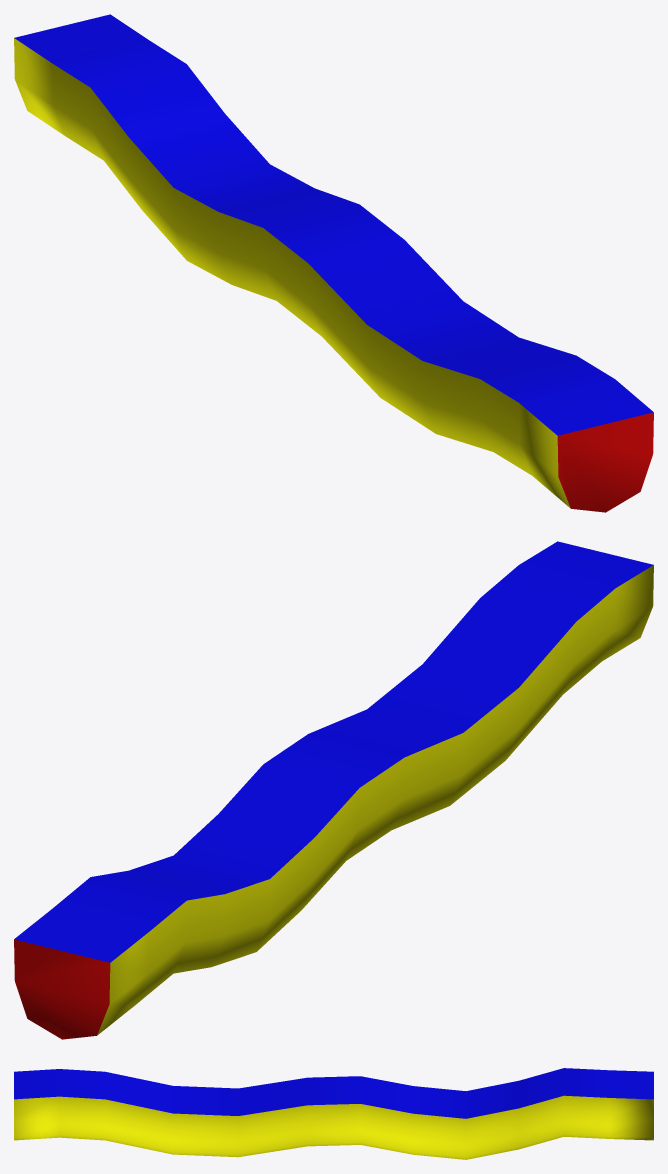
3 renders of one model, top to bottom at view 1: azimuth 30°, elevation 25°; view 2: azimuth 150°, elevation 25°; view 3: azimuth 270°, elevation 25°, orthographic. The views are drawn at different scales.
Parts seen in each view (by area): view 1: polySurface137; view 2: polySurface137; view 3: polySurface137.
Part boxes in pixels (x1,y1,x2,y2): polySurface137: [14, 14, 653, 512]; polySurface137: [14, 541, 653, 1039]; polySurface137: [14, 1068, 653, 1159].
Size of the model in its own units: 23.58 by 29.89 by 230.
